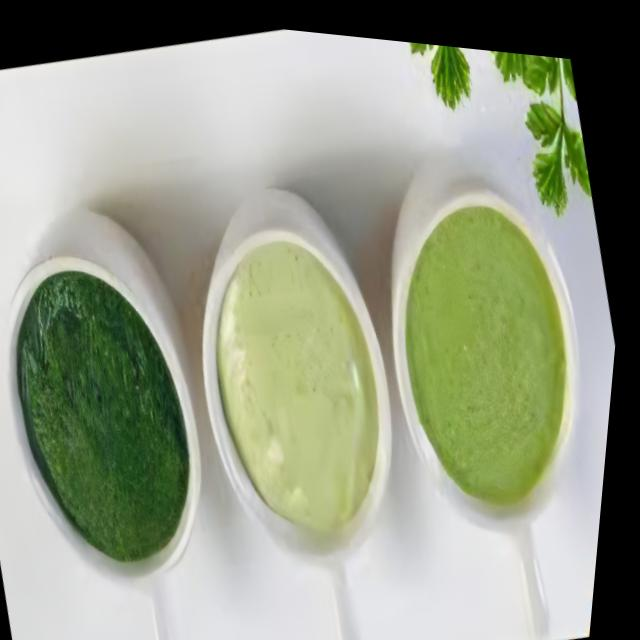GREEN CHUTNEY: (17, 284, 184, 561)
